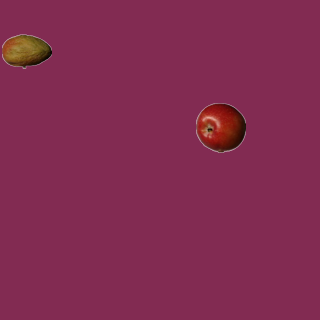Apple Braeburn: (195, 102, 245, 152)
Papaya: (1, 26, 51, 76)
